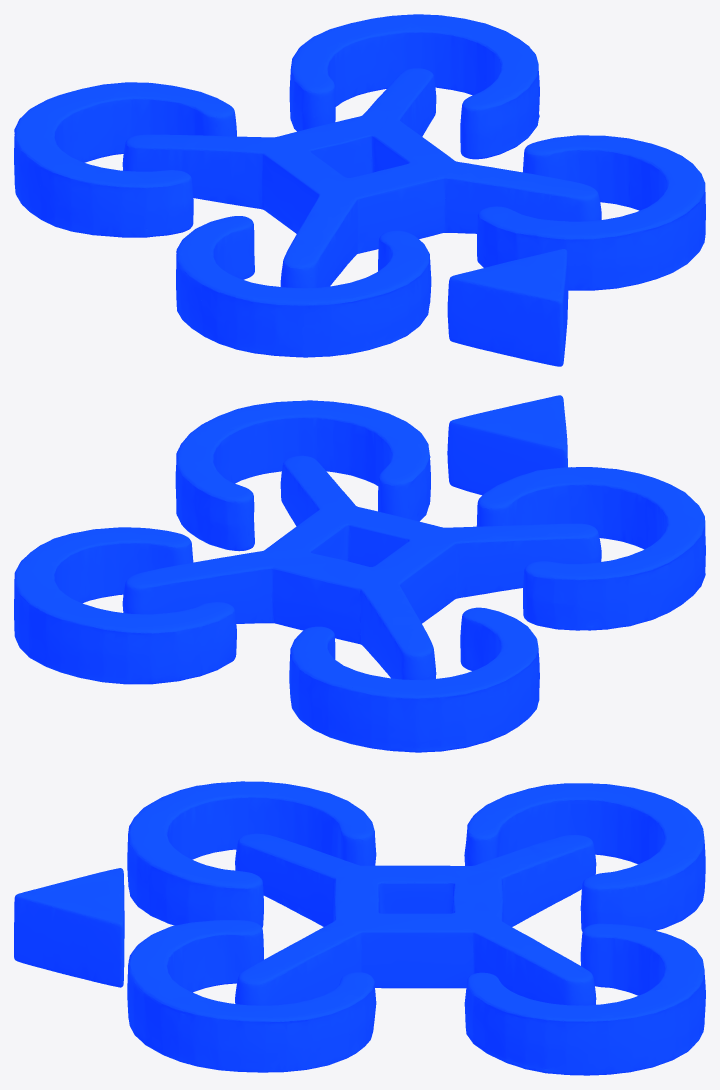
File: Drone.gltf
The picture shows the model from 3 angles, top to bottom: view 1: azimuth 30°, elevation 25°; view 2: azimuth 150°, elevation 25°; view 3: azimuth 270°, elevation 25°; orthographic projection.
Visible parts, largest first — view 1: model; view 2: model; view 3: model.
Part boxes in pixels (x1,y1,x2,y2): model: [14, 14, 705, 366]; model: [14, 395, 705, 752]; model: [14, 781, 705, 1075].
Size of the model in its own units: 1.56 by 0.2058 by 1.9.
